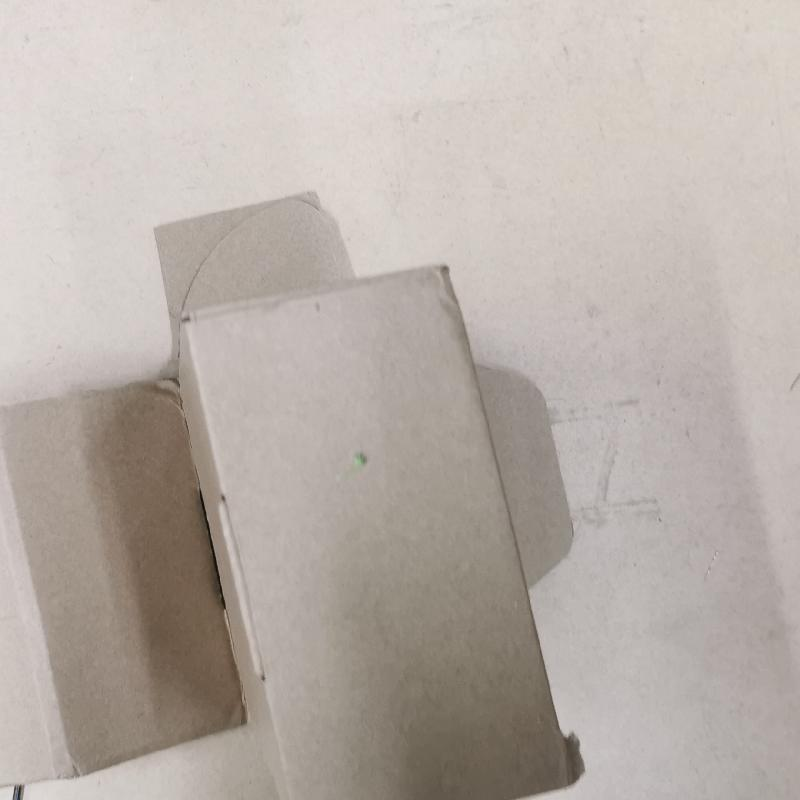boxes: (21, 192, 585, 800)
cans: (21, 192, 585, 800)
